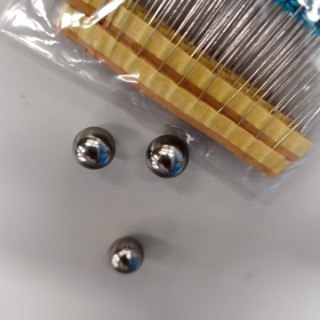ironball: (139, 119, 202, 200), (69, 121, 119, 189), (94, 229, 153, 282)
